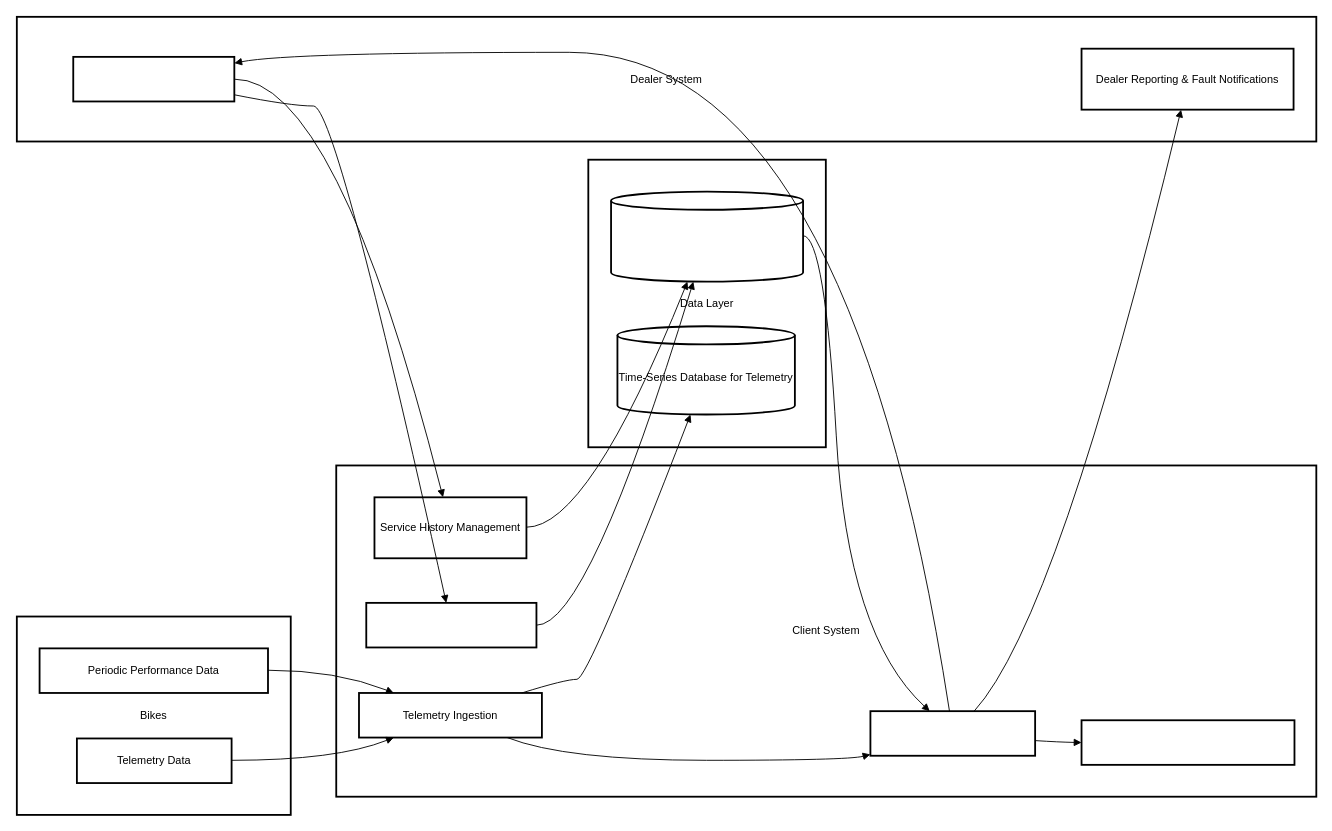
The diagram is 1332 pixels wide and 831 high, and some of its shapes have lost their labels. The shapes that lost their labels are listed below. From the top down, each one's centre as x and y in pixels, then its label:
point 153,79: Dealer Interface
point 707,236: Relational Database for BOM & Service History
point 451,625: BOM Management
point 952,733: Fault Diagnostics
point 1187,742: Dashboard for Engineers
